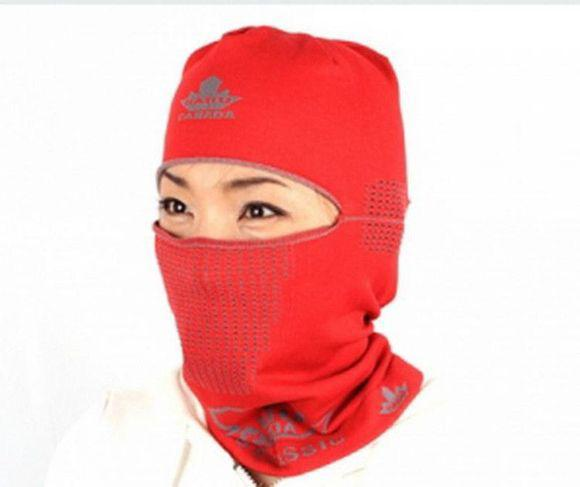OK: (152, 166, 352, 366)
